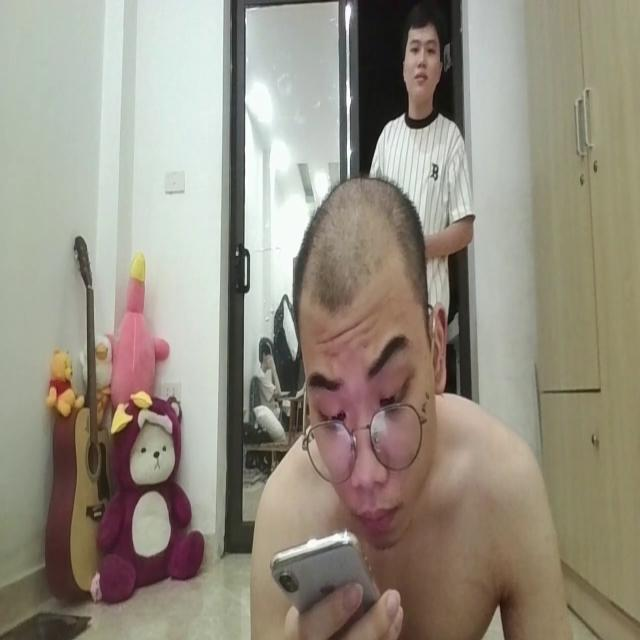extra_person: (356, 6, 474, 324)
student: (242, 166, 573, 640)
